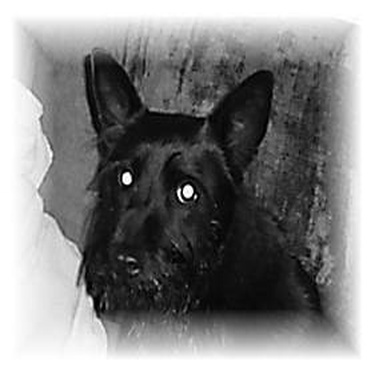dog: (39, 31, 335, 342)
